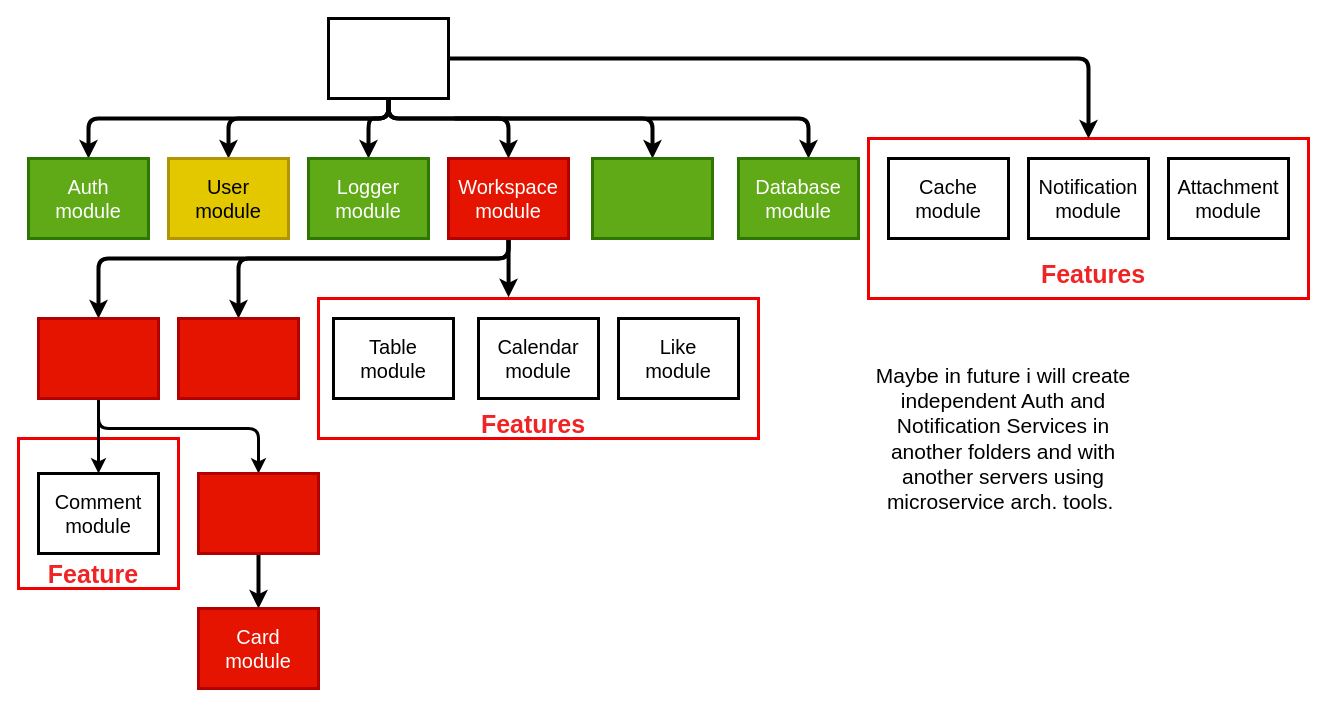
Image size: 1327x707. Some labels were removed from this diagram. Here are the shapes that lost their labels. From the top down, the box of each, then its label:
(326, 16, 450, 100): App module
(590, 156, 714, 240): Config module
(36, 316, 160, 400): Board module
(176, 316, 300, 400): Member module
(196, 472, 320, 554): List module
